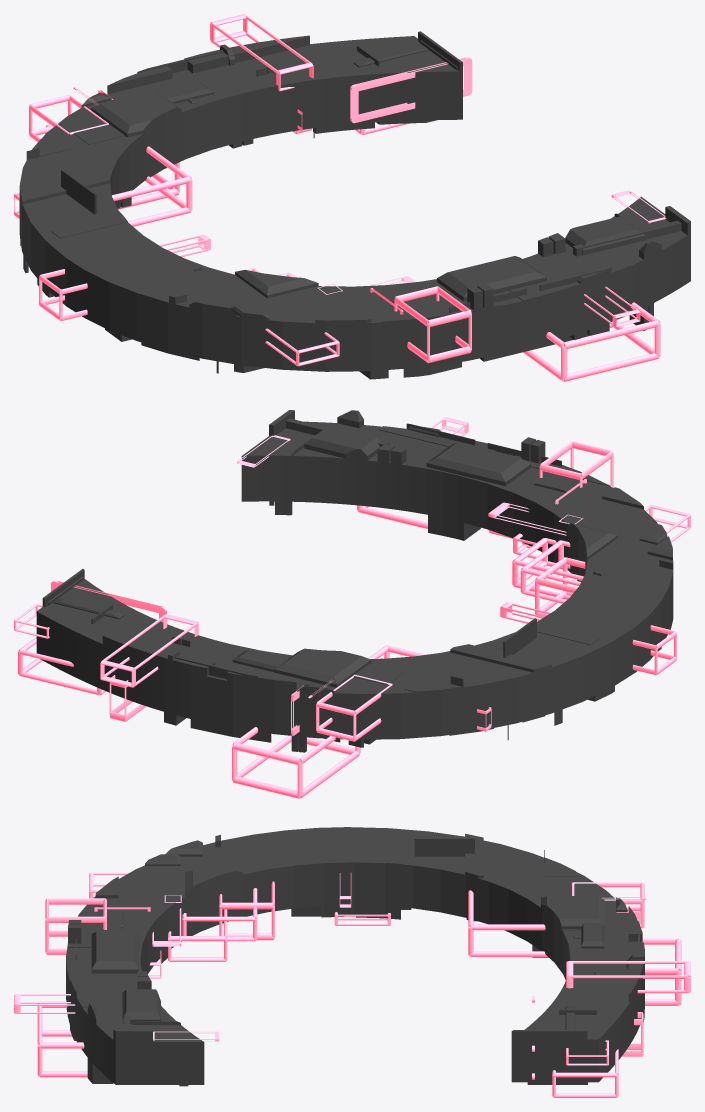
3 renders of one model, top to bottom at view 1: azimuth 30°, elevation 25°; view 2: azimuth 150°, elevation 25°; view 3: azimuth 270°, elevation 25°, orthographic. The views are drawn at different scales.
Parts seen in each view (by area): view 1: Letter; view 2: Letter; view 3: Letter.
Boxes of the visible parts, box(x1,y1,x2,y2) form: Letter: box(14, 14, 690, 381); Letter: box(14, 410, 690, 798); Letter: box(14, 827, 690, 1097).
Size of the model in its own units: 4.59 by 0.8654 by 5.65.
